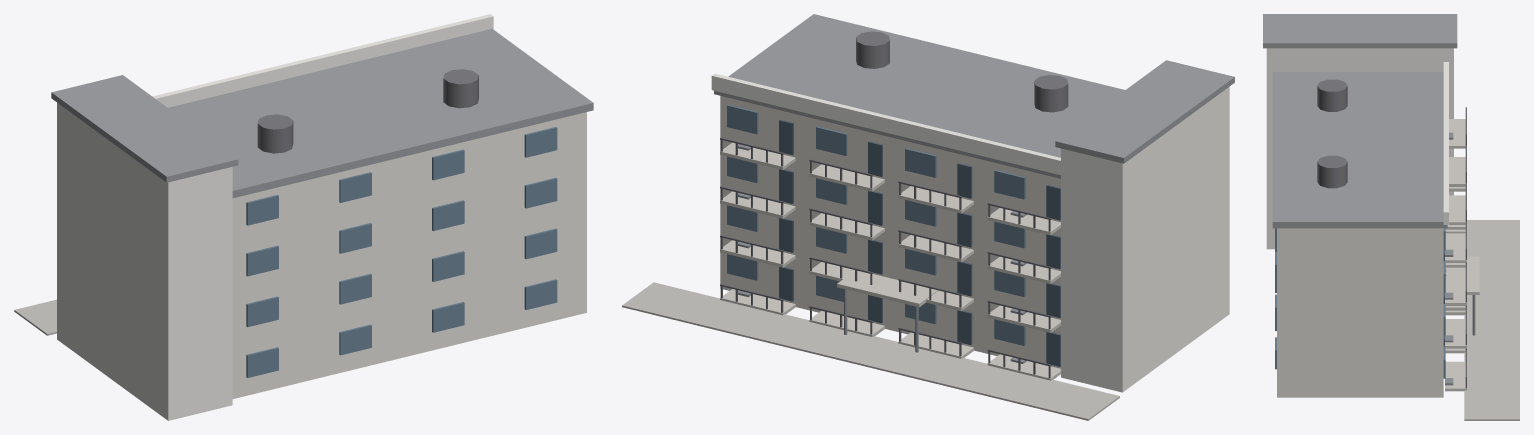
The model's file is estate_flats_1.glb.
The picture shows the model from 3 angles, left to right: view 1: azimuth 30°, elevation 25°; view 2: azimuth 150°, elevation 25°; view 3: azimuth 270°, elevation 25°; orthographic projection. The views are drawn at different scales.
Visible parts, largest first — view 1: BLD_estate_flats_1; view 2: BLD_estate_flats_1; view 3: BLD_estate_flats_1.
Part boxes in pixels (x1,y1,x2,y2): BLD_estate_flats_1: (14, 14, 593, 420); BLD_estate_flats_1: (622, 14, 1234, 420); BLD_estate_flats_1: (1263, 14, 1519, 420).
Bounding box in the file's own units: 34 × 16.7 × 18.5.
